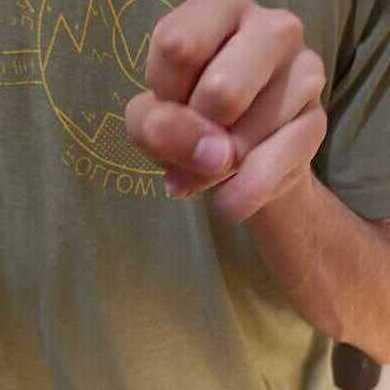J: (123, 1, 329, 234)
